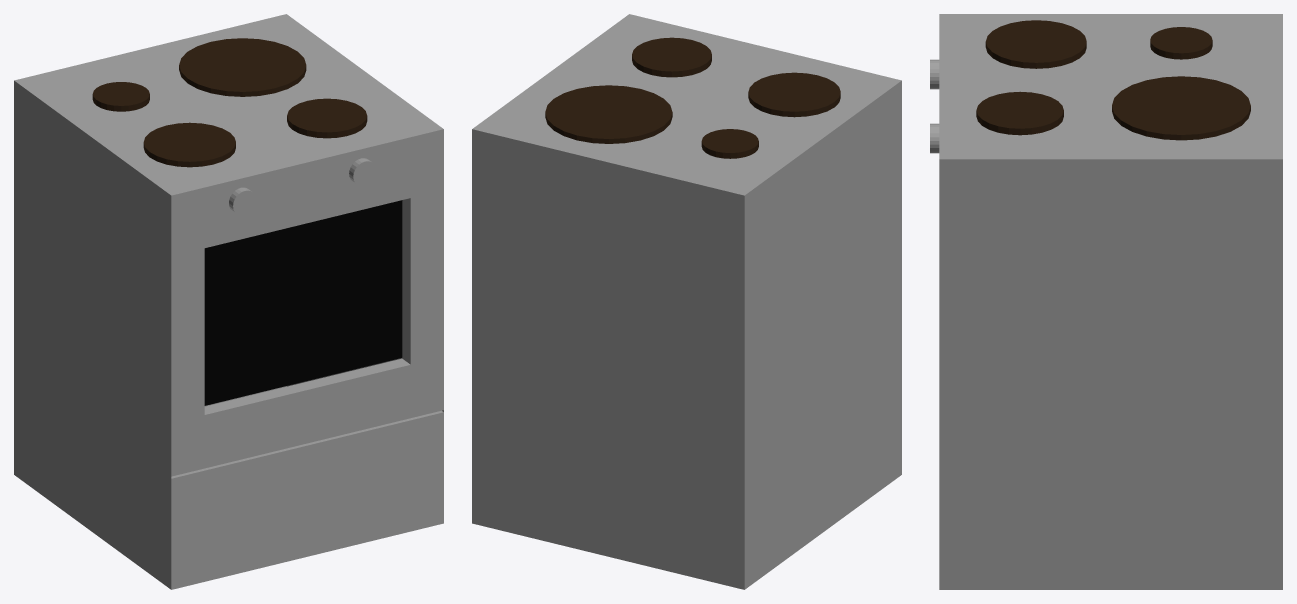
Rendered from piano_cottura_Scene.obj.
3 views of the same model, side by side, from view 1: azimuth 30°, elevation 25°; view 2: azimuth 150°, elevation 25°; view 3: azimuth 270°, elevation 25° (orthographic). The views are drawn at different scales.
Parts seen in each view (by area): view 1: range_Sobe_INOXs.002, range_Sobe_monitor, range_Sobe_Zi; view 2: range_Sobe_INOXs.002, range_Sobe_Zi; view 3: range_Sobe_INOXs.002, range_Sobe_Zi.
Part boxes in pixels (x1=…): range_Sobe_INOXs.002: x1=14, y1=14, x2=443, y2=589; range_Sobe_monitor: x1=204, y1=200, x2=402, y2=405; range_Sobe_Zi: x1=92, y1=38, x2=367, y2=167; range_Sobe_INOXs.002: x1=472, y1=14, x2=901, y2=589; range_Sobe_Zi: x1=545, y1=37, x2=840, y2=158; range_Sobe_INOXs.002: x1=930, y1=14, x2=1282, y2=589; range_Sobe_Zi: x1=976, y1=20, x2=1250, y2=140.
Bounding box in the file's own units: 0.6 × 0.8422 × 0.616.
